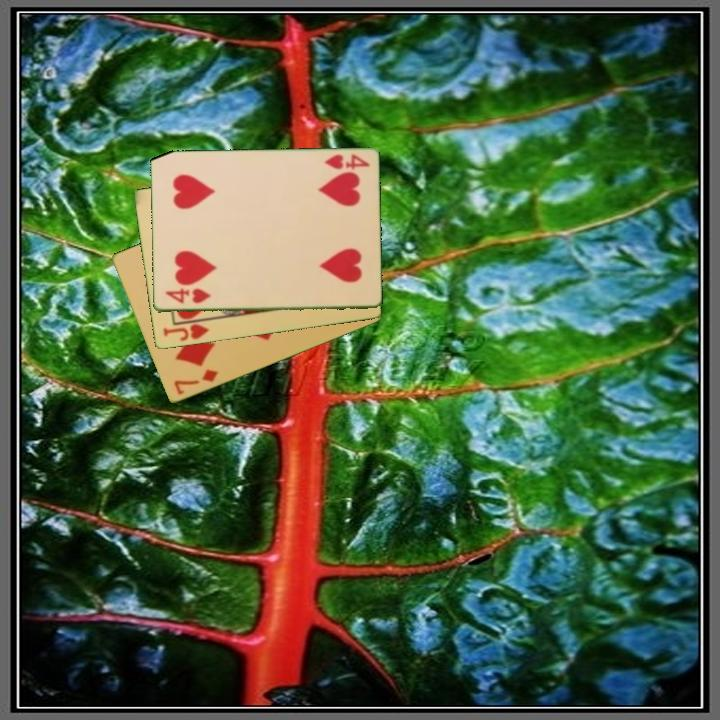4h: (321, 151, 372, 173), (161, 286, 214, 306)
7d: (170, 366, 221, 398)
Jh: (159, 316, 214, 344)
